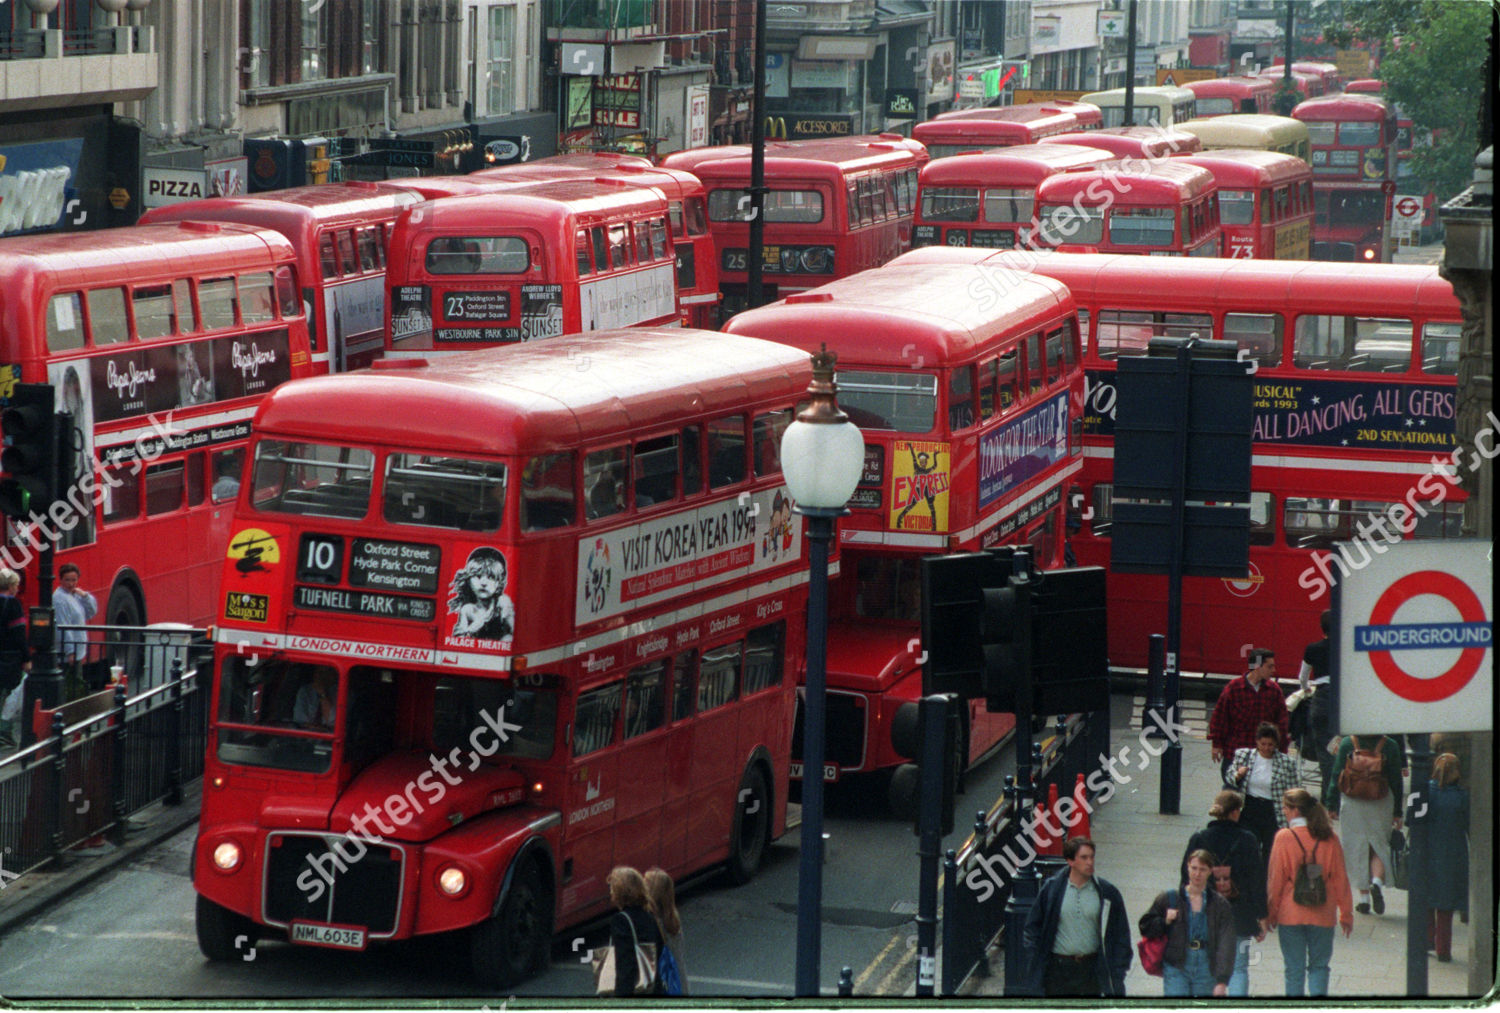bus: (172, 308, 822, 980), (794, 265, 1064, 794), (1, 225, 283, 669), (1074, 246, 1453, 469), (408, 147, 709, 345), (717, 124, 912, 295), (1042, 172, 1230, 254), (928, 149, 1030, 256)
